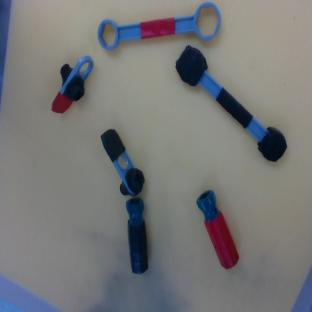part_1_bad: (90, 127, 150, 201)
part_1_good: (47, 48, 96, 119)
part_2_bad: (124, 197, 150, 273)
part_2_good: (194, 188, 241, 270)
part_3_bad: (168, 42, 293, 167)
part_3_good: (95, 1, 223, 51)
